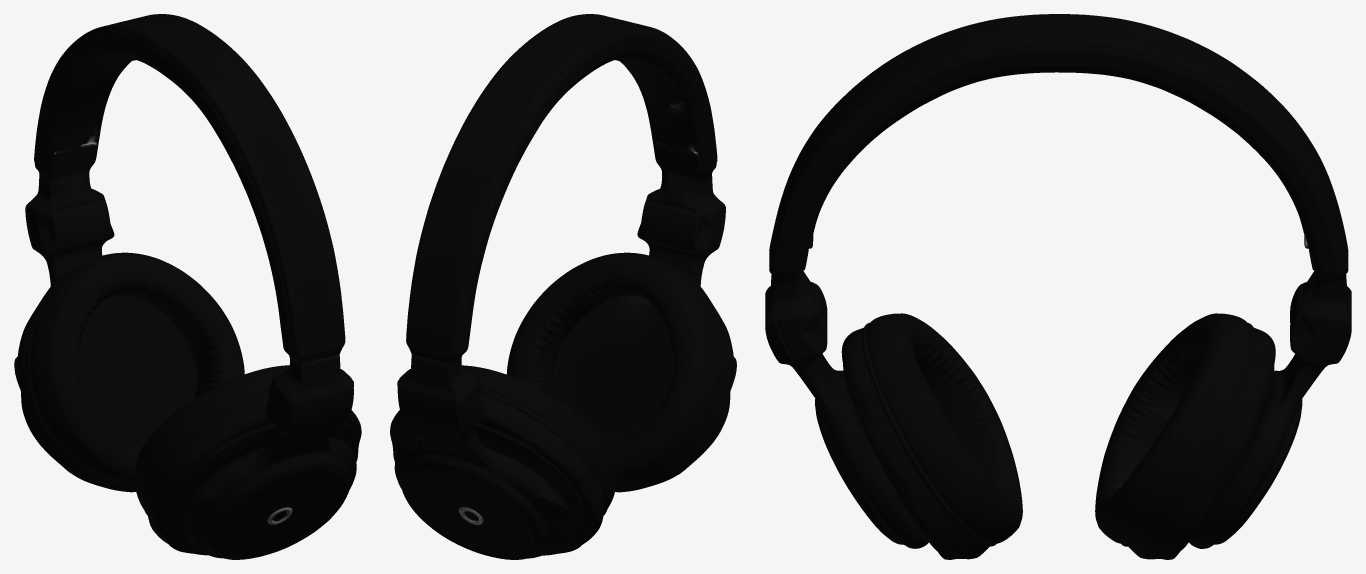
The model's file is auriculares.glb.
3 views of the same model, side by side, from view 1: azimuth 30°, elevation 25°; view 2: azimuth 150°, elevation 25°; view 3: azimuth 270°, elevation 25° (orthographic). The views are drawn at different scales.
Parts seen in each view (by area): view 1: texture_pbr_v128; view 2: texture_pbr_v128; view 3: texture_pbr_v128.
Boxes of the visible parts, bbox=[...] form: texture_pbr_v128: bbox=[14, 14, 361, 559]; texture_pbr_v128: bbox=[390, 14, 736, 559]; texture_pbr_v128: bbox=[765, 14, 1351, 559].
Bounding box in the file's own units: 0.4874 × 1.1 × 1.12.
1 material, 1 textured.
